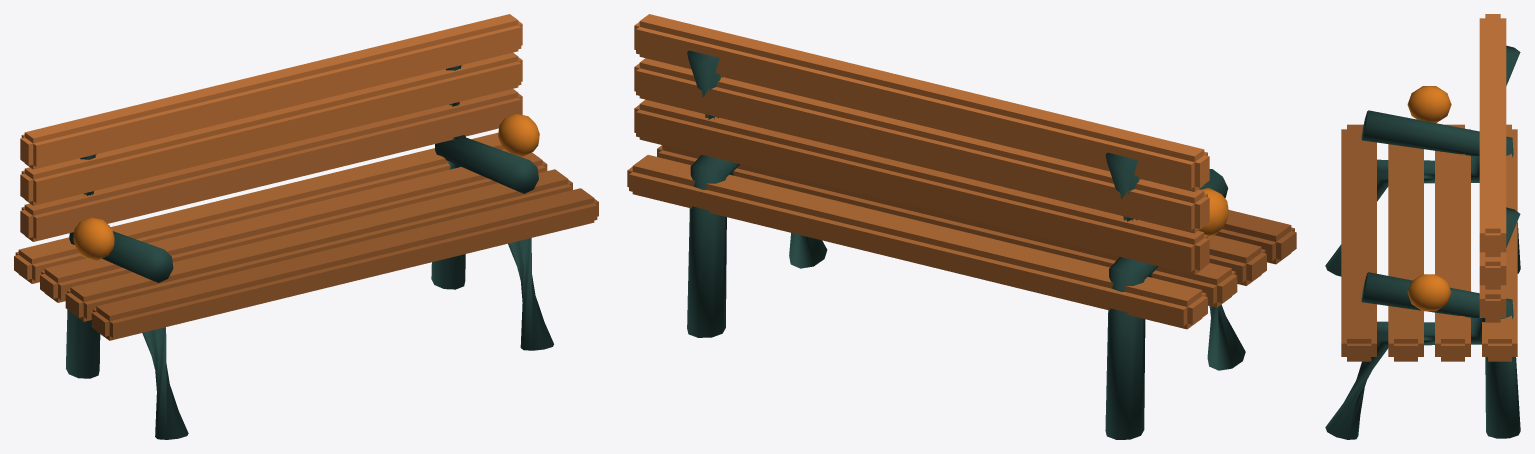
The model's file is bench-CYXeC1pE.glb.
3 views of the same model, side by side, from view 1: azimuth 30°, elevation 25°; view 2: azimuth 150°, elevation 25°; view 3: azimuth 270°, elevation 25° (orthographic). The views are drawn at different scales.
Parts seen in each view (by area): view 1: bench; view 2: bench; view 3: bench.
Part boxes in pixels (left/top/right/bottom): bench: left=14, top=14, right=598, bottom=439; bench: left=627, top=14, right=1296, bottom=439; bench: left=1325, top=14, right=1520, bottom=439.
Bounding box in the file's own units: 1.8 × 0.9 × 0.68.
